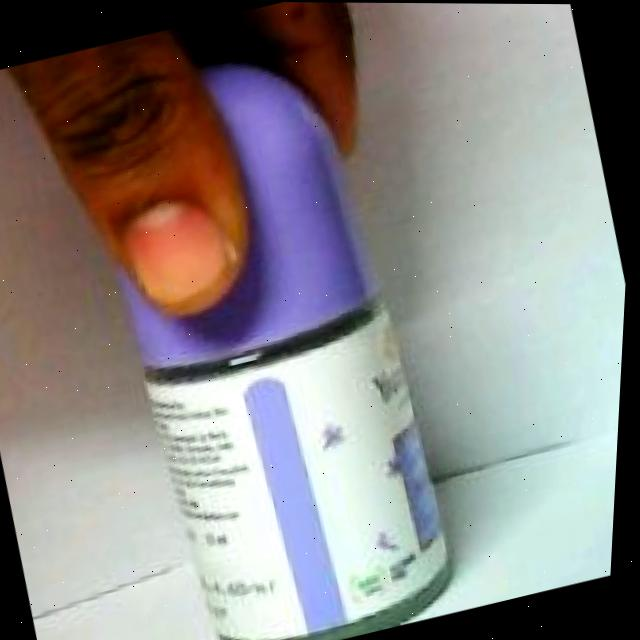yardley_rollon: (108, 62, 458, 640)
